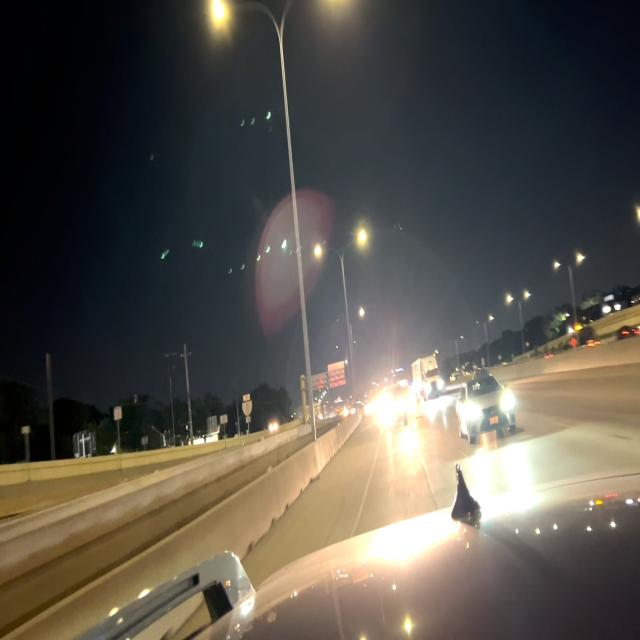back-of-sign: (312, 359, 346, 395), (241, 390, 254, 425)
